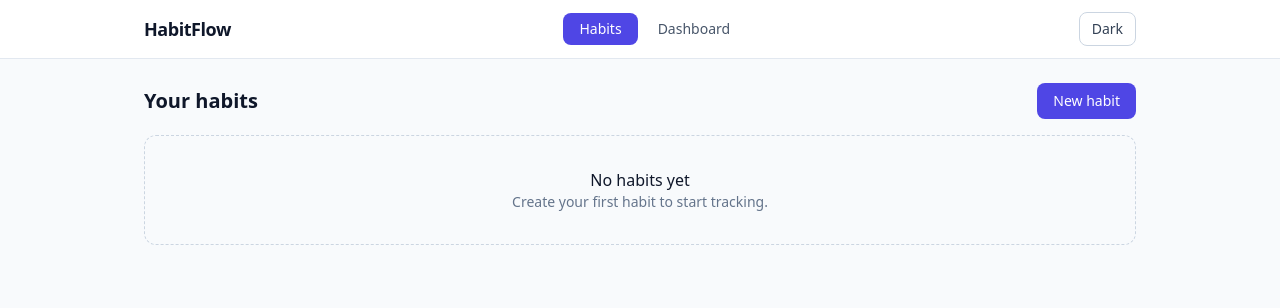
App navigation › starts on Habits and switches to Dashboard via the nav
Click the button "Dashboard": click(694, 29) left=642, top=13, right=746, bottom=45
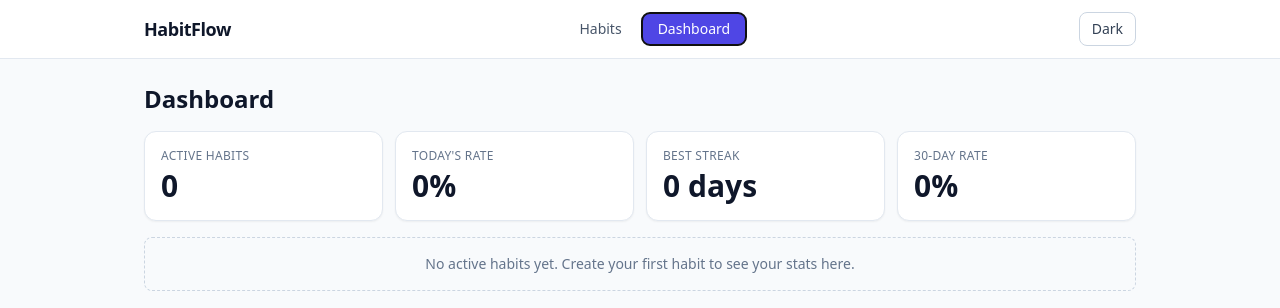
expect the element with test id "dashboard" is shown: met, box left=144, top=83, right=1136, bottom=291
